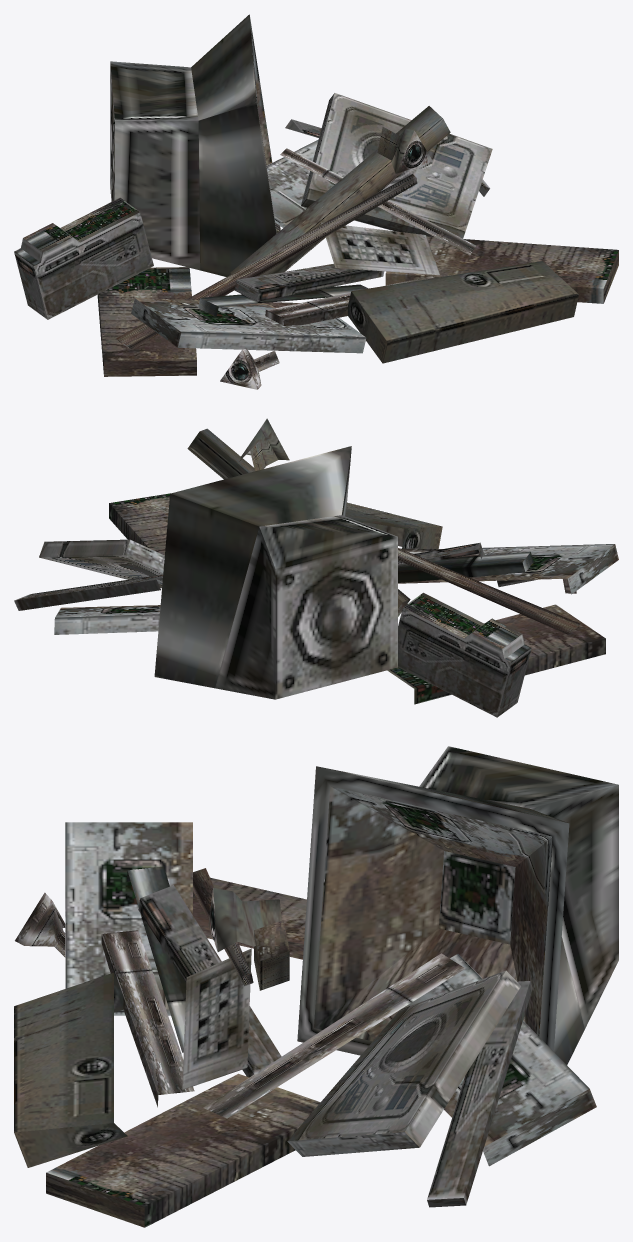
File: thm_all_imprv_trash_pile_s01_l1.fbx
The picture shows the model from 3 angles, top to bottom: view 1: azimuth 30°, elevation 25°; view 2: azimuth 150°, elevation 25°; view 3: azimuth 270°, elevation 25°; orthographic projection. The views are drawn at different scales.
Visible parts, largest first — view 1: mesh_node; view 2: mesh_node; view 3: mesh_node.
Boxes of the visible parts, x1,y1,x2,y2 form: mesh_node: [14, 14, 618, 389]; mesh_node: [14, 418, 618, 717]; mesh_node: [14, 746, 618, 1227].
Bounding box in the file's own units: 1.19 × 0.4321 × 0.9062.
1 material, 1 textured.
